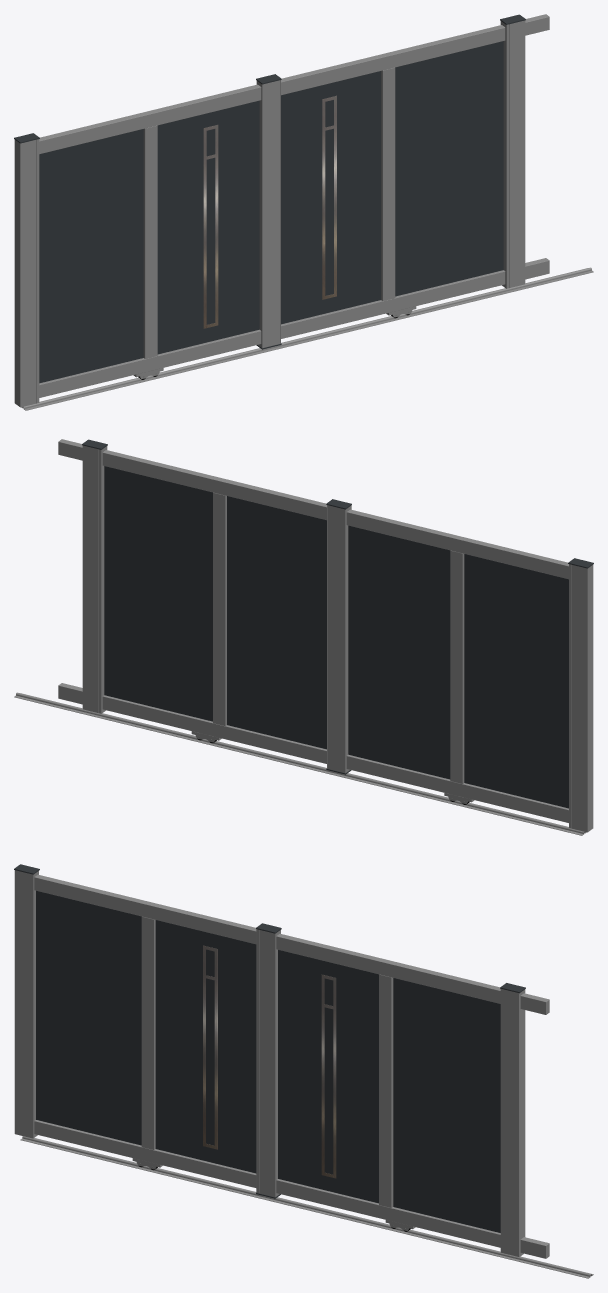
3 renders of one model, top to bottom at view 1: azimuth 30°, elevation 25°; view 2: azimuth 150°, elevation 25°; view 3: azimuth 330°, elevation 25°, orthographic.
Visible parts, largest first — view 1: Box010, Rectangle066, Rectangle067, Shape107412643, Shape107413021, Shape107413022, Rectangle069, Rectangle070, Rail, silba, silba001; view 2: Box010, Rectangle066, Rectangle067, Shape107412643, Shape107413021, Shape107413022, Rectangle069, Rail, Rectangle070; view 3: Box010, Rectangle066, Rectangle067, Shape107413021, Shape107412643, Shape107413022, Rail, Rectangle070, Rectangle069, silba001, silba.
Part boxes in pixels (x1,y1,x2,y2): Box010: (39, 41, 503, 383); Rectangle066: (39, 14, 549, 154); Rectangle067: (39, 258, 549, 397); Shape107412643: (14, 139, 39, 407); Shape107413021: (500, 20, 525, 288); Shape107413022: (256, 80, 280, 348); Rectangle069: (143, 125, 157, 358); Rectangle070: (381, 67, 395, 300); Rail: (21, 267, 593, 410); silba: (203, 125, 218, 328); silba001: (322, 95, 336, 299); Box010: (104, 466, 568, 808); Rectangle066: (58, 439, 568, 579); Rectangle067: (58, 683, 568, 822); Shape107412643: (569, 564, 593, 832); Shape107413021: (82, 445, 107, 713); Shape107413022: (327, 505, 351, 773); Rectangle069: (450, 550, 464, 783); Rail: (14, 692, 586, 835); Rectangle070: (213, 492, 226, 725); Box010: (36, 890, 500, 1232); Rectangle066: (34, 874, 549, 1014); Rectangle067: (34, 1120, 549, 1258); Shape107413021: (500, 989, 525, 1257); Shape107412643: (14, 870, 38, 1138); Shape107413022: (256, 929, 280, 1197); Rail: (20, 1136, 593, 1278); Rectangle070: (379, 974, 393, 1207); Rectangle069: (141, 916, 155, 1149); silba001: (321, 974, 336, 1178); silba: (203, 945, 217, 1149).
Bounding box in the file's own units: 3638 × 1636 × 70.
Materials: 8 (4 with a texture image).
